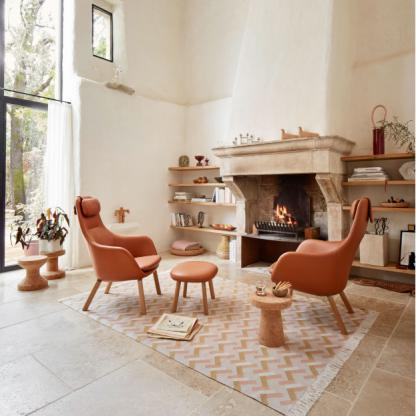chair: (269, 174, 374, 349), (72, 187, 166, 330), (169, 259, 223, 324)
table: (245, 282, 296, 346), (15, 250, 49, 292), (40, 242, 67, 282)
